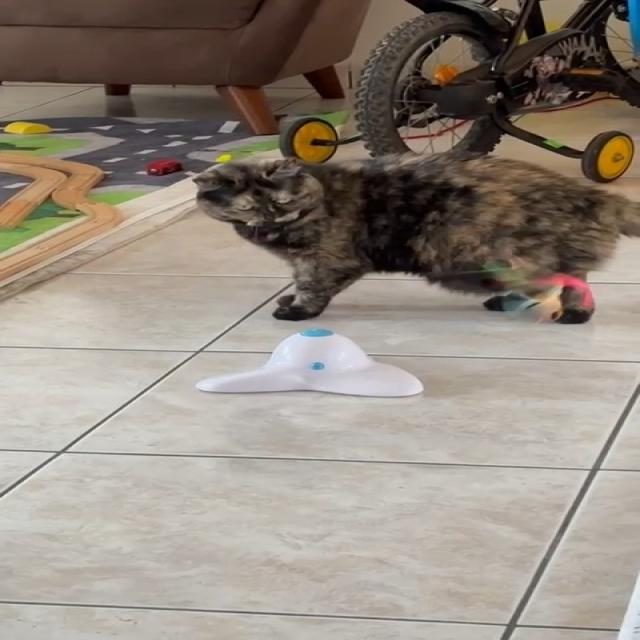authorized: (191, 150, 638, 324)
